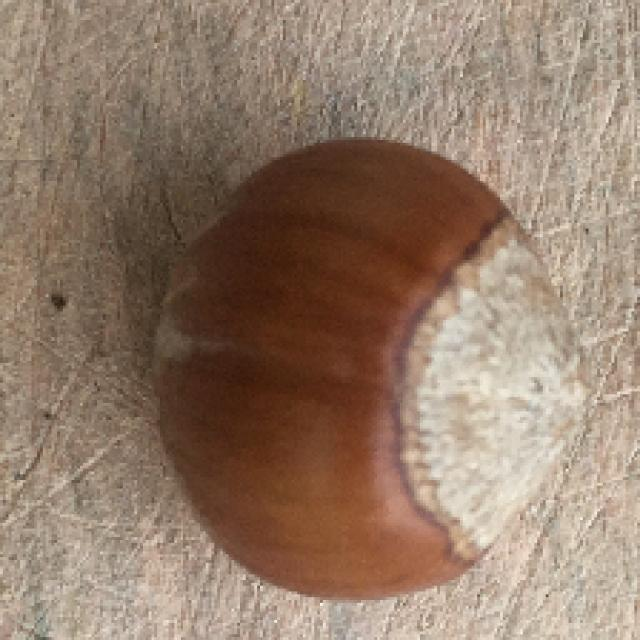damagedHazelnut: (140, 107, 600, 594)
